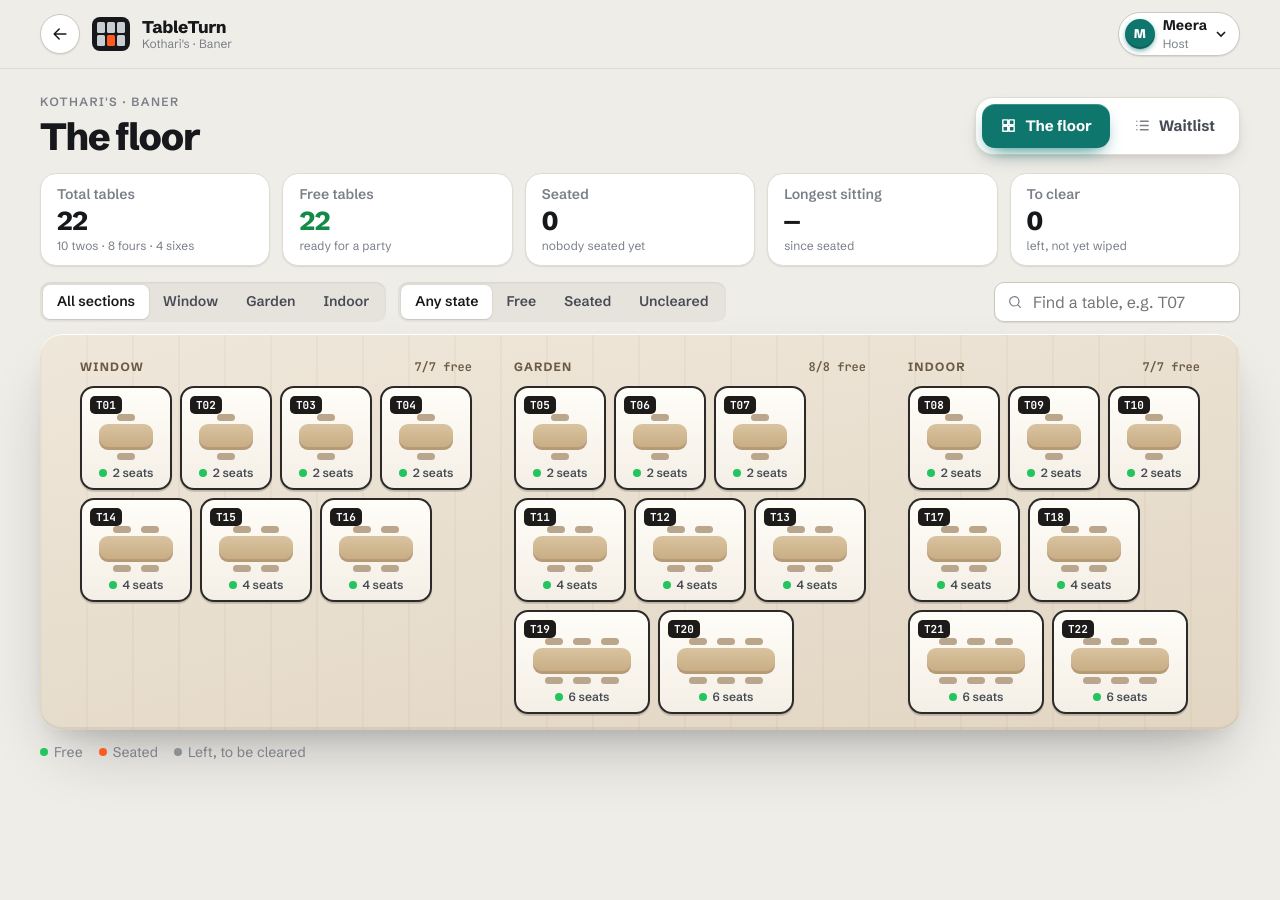
F-02 · Moving between people › the back arrow on a person's screen opens the welcome page
This screenshot has width=1280, height=900.
Click the link named "Back to the home page".
click(60, 34)  # box [40, 14, 80, 54]
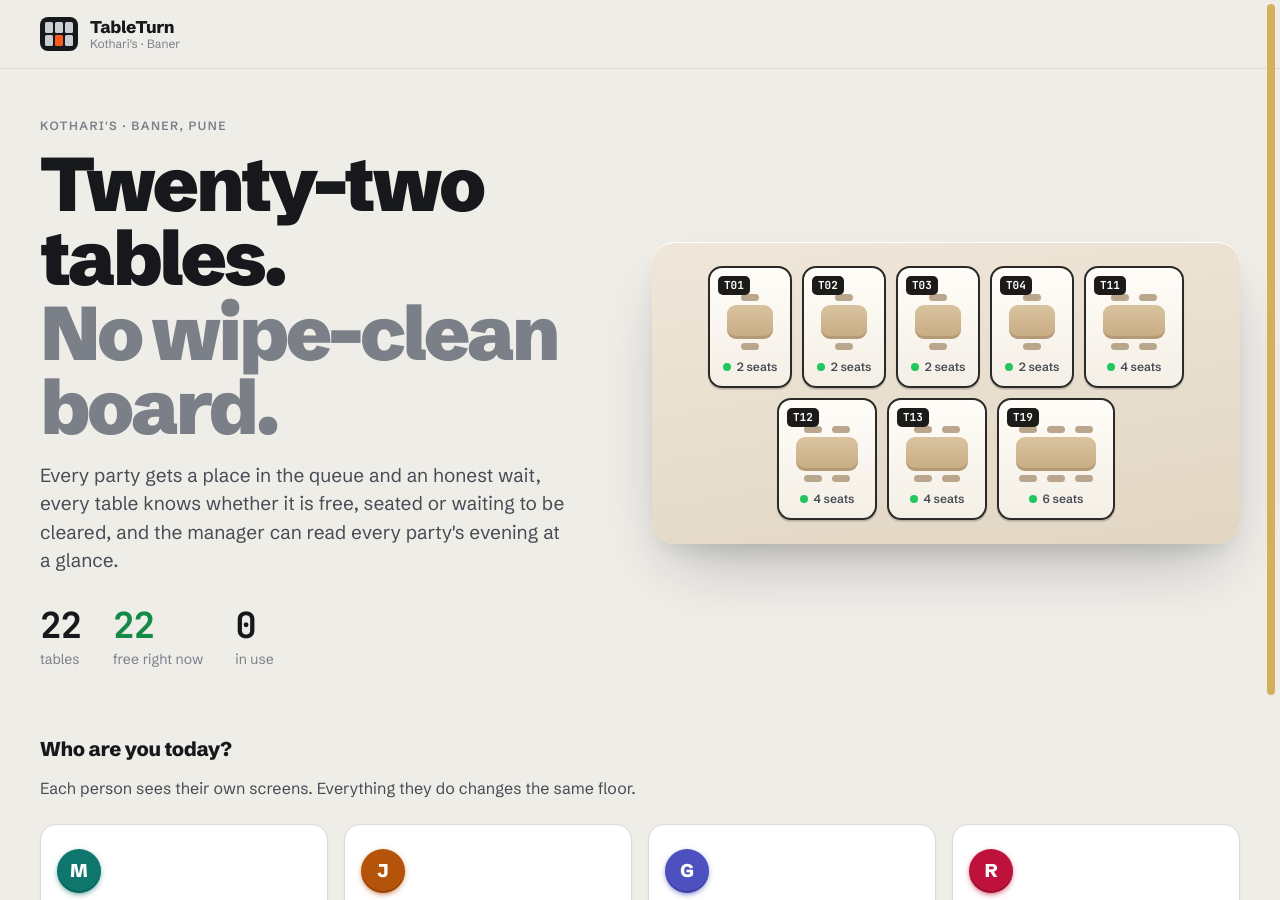
Now the link "Back to the home page" is gone
